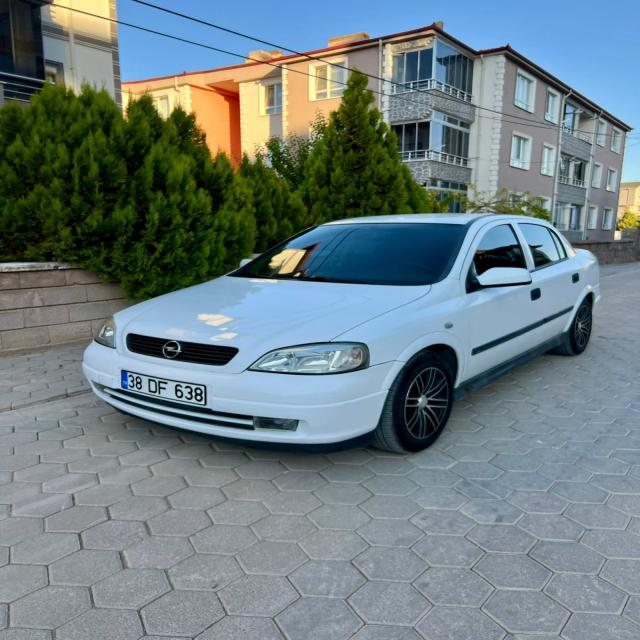opel: (160, 338, 188, 361)
